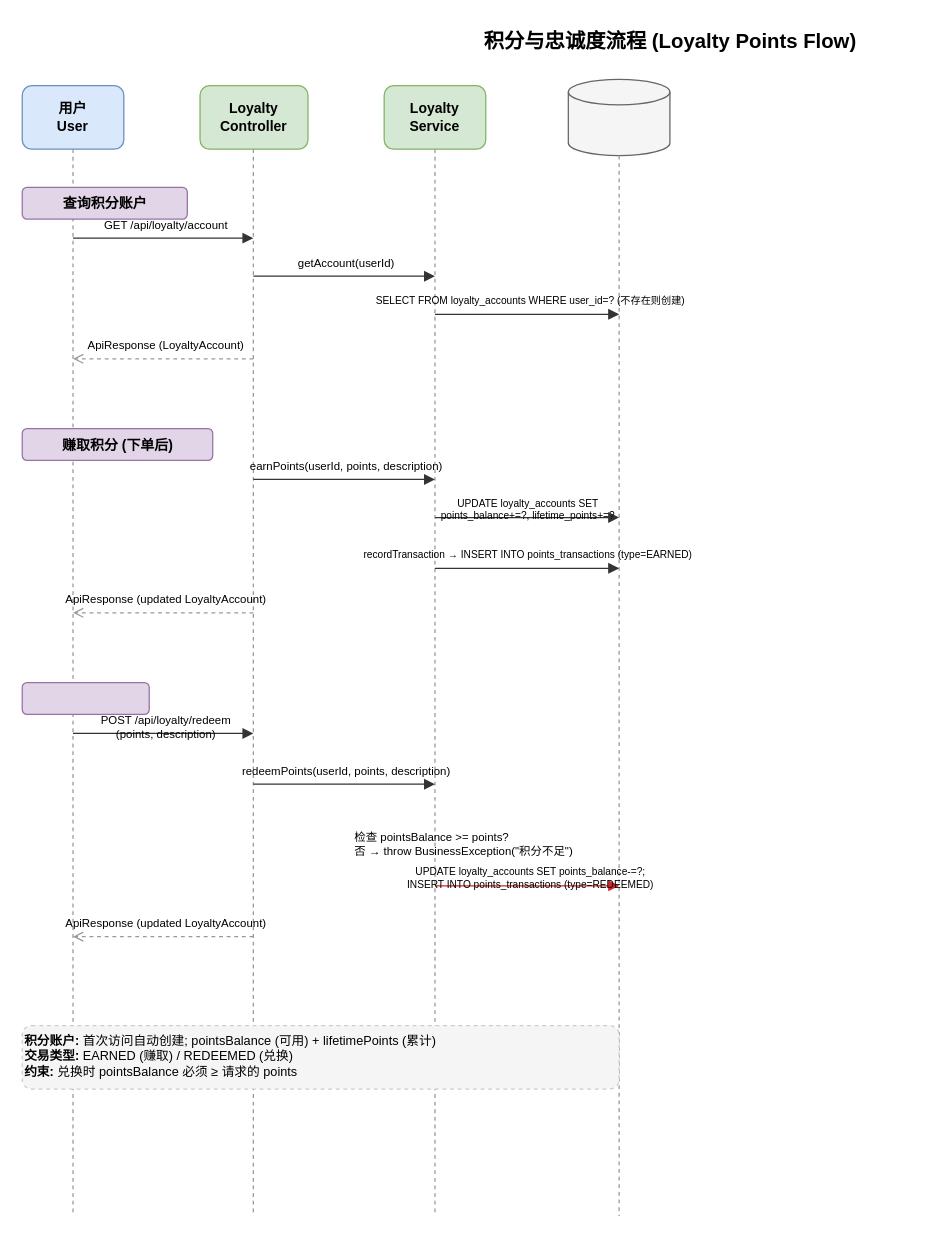
Some shapes in this 946 by 1240 pixel diagram are drawn without their labels. The shapes that lost their labels are listed below. From the top down, each one's centre as x and y in pixels, then its label:
point (618, 117): 数据库 DB
point (85, 697): 兑换积分
